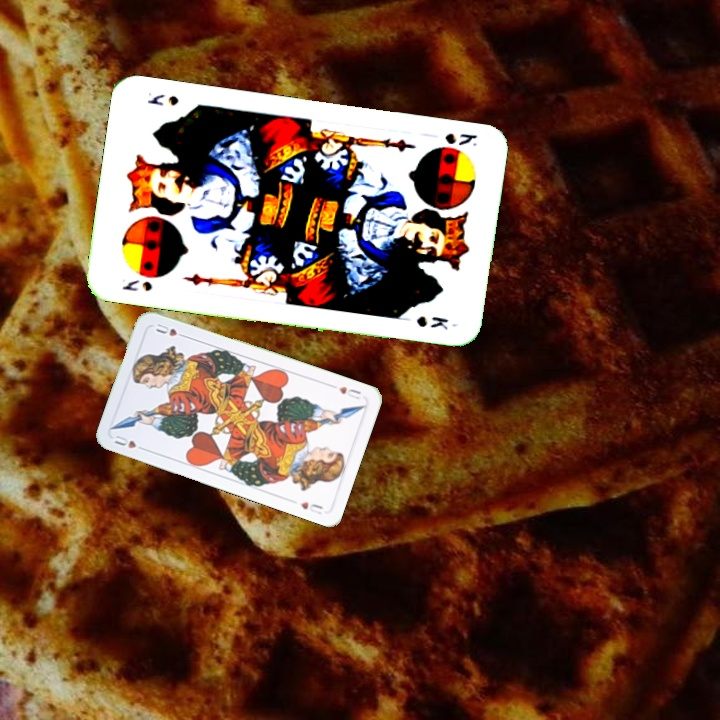HU: (110, 431, 149, 453), (334, 382, 363, 402)
SK: (440, 129, 480, 149), (118, 276, 155, 294)
